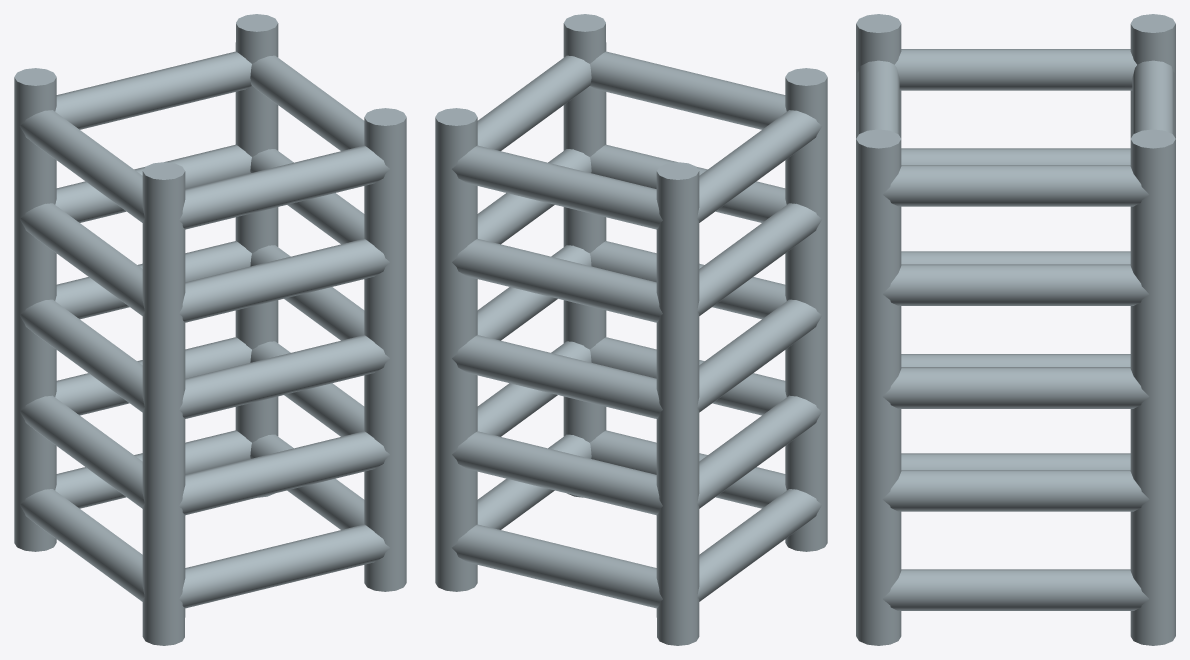
Rendered from barrierStrut-col.glb.
The picture shows the model from 3 angles, left to right: view 1: azimuth 30°, elevation 25°; view 2: azimuth 150°, elevation 25°; view 3: azimuth 270°, elevation 25°; orthographic projection. The views are drawn at different scales.
Parts seen in each view (by area): view 1: barrierStrut-col; view 2: barrierStrut-col; view 3: barrierStrut-col.
Part boxes in pixels (box(x1,y1,x2,y2)): barrierStrut-col: box(14, 14, 406, 645); barrierStrut-col: box(435, 14, 827, 645); barrierStrut-col: box(856, 14, 1175, 645).
Size of the model in its own units: 1.16 by 2 by 1.17.
